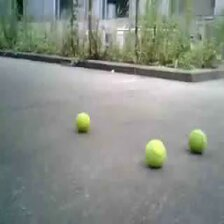tennis: (145, 138, 166, 168), (188, 129, 206, 151), (77, 112, 89, 132)
